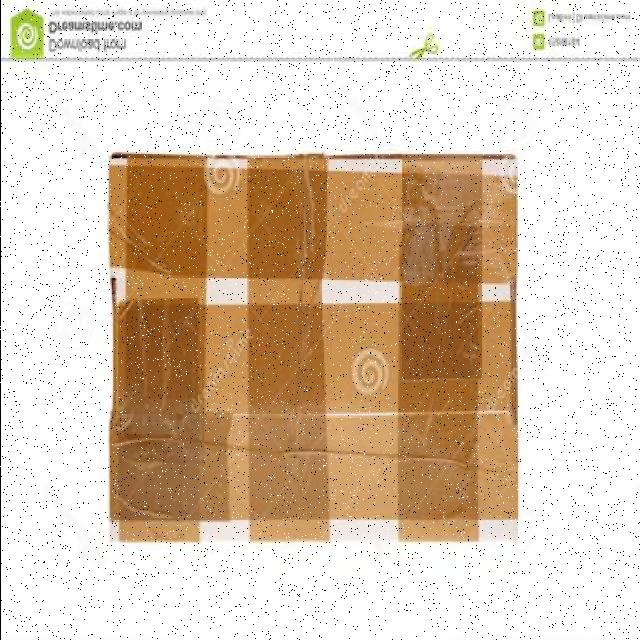defect: (102, 143, 524, 554)
